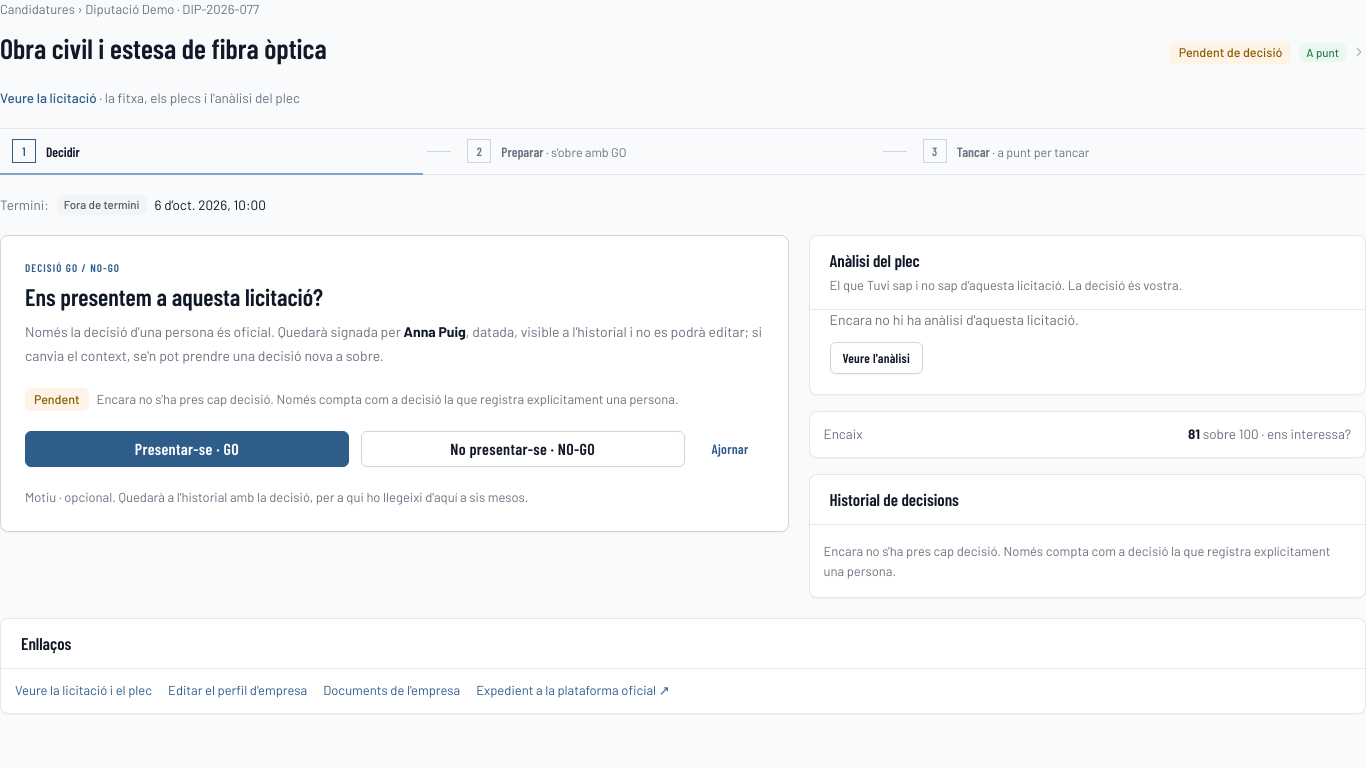
Test: Candidatura · stepper i Decidir › decision_reason_required: un sol GET extra del workspace i un de l'anàlisi, cap navegació i el modal continua obert
Click the button "Presentar-se · GO" at (187, 449), box [25,431,349,467]
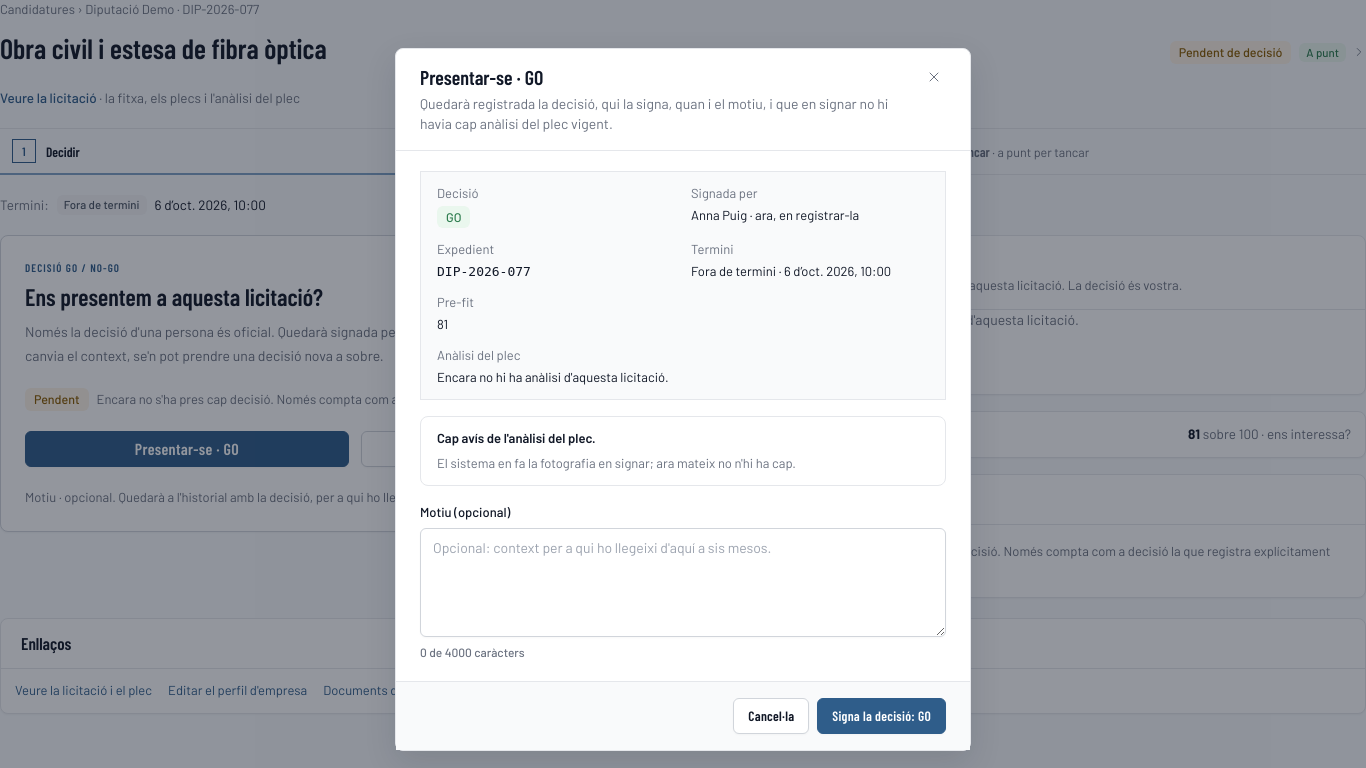
Click the button "Signa la decisió: GO" at (882, 716), box [817,698,946,734]
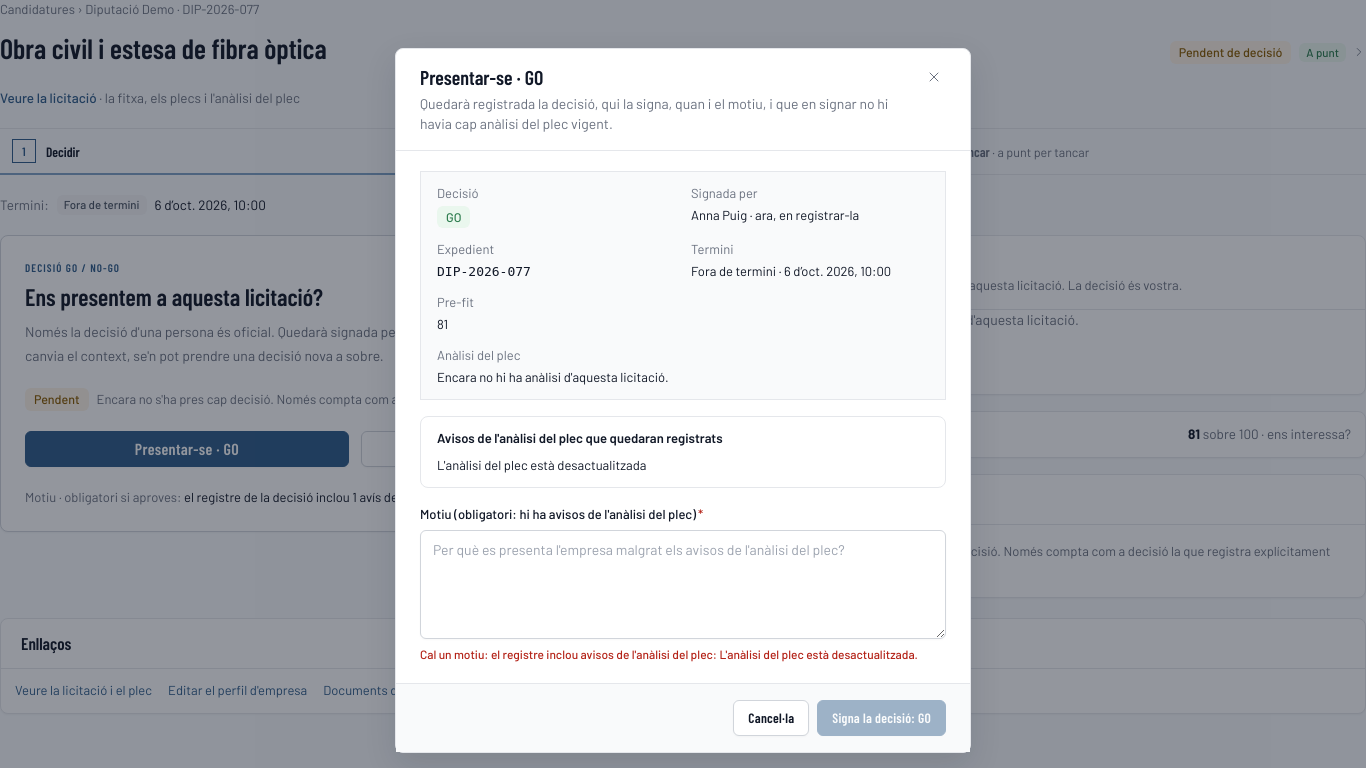
Check: the heading "Ens presentem a aquesta licitació?" is shown, box [25,282,323,311]
Check: the dialog shows "Cal un motiu:", box [420,647,918,661]
Check: the dialog shows "Motiu (obligatori: hi ha avisos de l'anàlisi del plec)", box [420,506,696,522]
